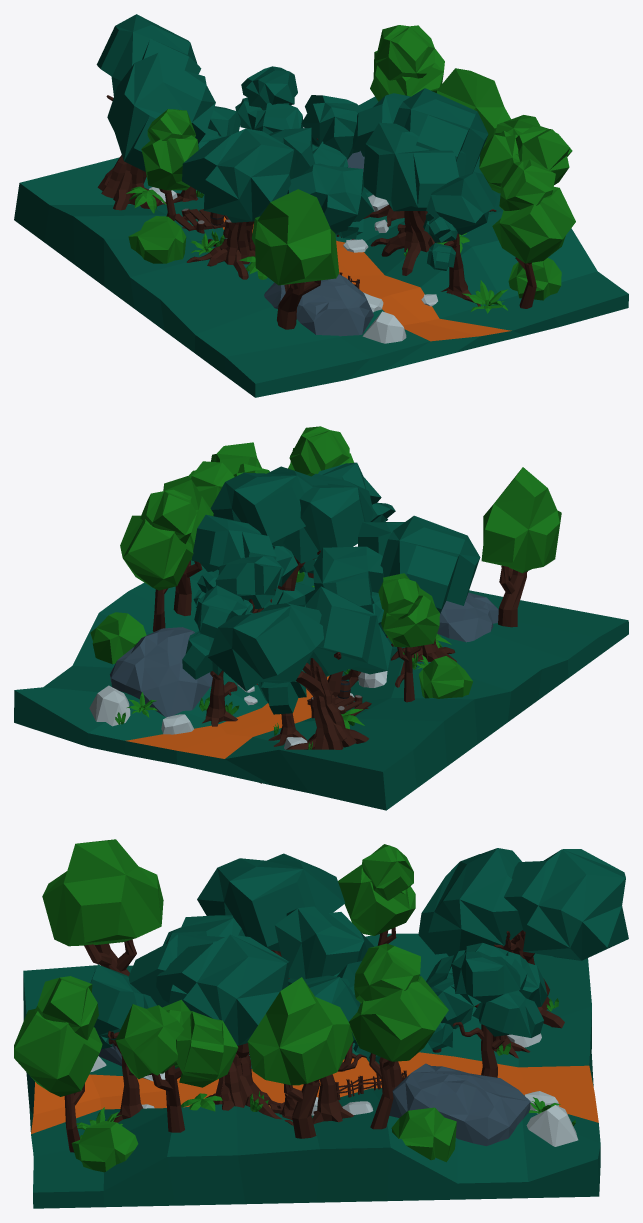
Rendered from Props_Small Scene.fbx.
3 views of the same model, one above another, from view 1: azimuth 30°, elevation 25°; view 2: azimuth 150°, elevation 25°; view 3: azimuth 270°, elevation 25° (orthographic). The views are drawn at different scales.
Visible parts, largest first — view 1: group2009401224, group937971834, group597624186, group1715968370, group403363102, group313951583, group133283747, group561706230, group2035836735, group1573540807, group116158582, group506122935 (+10 smaller); view 2: group2009401224, group597624186, group937971834, group1922369548, group403363102, group1715968370, group2035836735, group506122935, group1101735918, group1084787493, group1033721589, group2127422963 (+11 smaller); view 3: group2009401224, group597624186, group937971834, group403363102, group2035836735, group1045676722, group1922369548, group1573540807, group313951583, group1715968370, group1033721589, group506122935 (+10 smaller).
Boxes of the visible parts, box(x1,y1,x2,y2) form: group2009401224: box(14, 96, 628, 397); group937971834: box(363, 88, 488, 275); group597624186: box(96, 14, 215, 210); group1715968370: box(182, 128, 296, 279); group403363102: box(251, 189, 339, 329); group313951583: box(492, 159, 575, 308); group133283747: box(423, 172, 497, 306); group561706230: box(264, 274, 406, 343); group2035836735: box(370, 25, 444, 101); group1573540807: box(479, 115, 572, 193); group116158582: box(287, 163, 373, 239); group506122935: box(141, 109, 198, 220); group2009401224: box(14, 560, 628, 810); group597624186: box(208, 586, 392, 783); group937971834: box(210, 466, 373, 610); group1922369548: box(89, 627, 212, 734); group403363102: box(481, 467, 561, 627); group1715968370: box(380, 515, 480, 687); group2035836735: box(120, 489, 196, 631); group506122935: box(378, 573, 439, 702); group1101735918: box(191, 514, 297, 607); group1084787493: box(313, 546, 386, 687); group1033721589: box(182, 585, 253, 726); group2127422963: box(215, 556, 302, 684); group2009401224: box(23, 933, 600, 1208); group597624186: box(418, 848, 628, 1028); group937971834: box(128, 934, 293, 1125); group403363102: box(42, 839, 163, 976); group2035836735: box(349, 943, 448, 1129); group1045676722: box(247, 977, 353, 1138); group1922369548: box(389, 1063, 578, 1146); group1573540807: box(115, 999, 238, 1132); group313951583: box(14, 976, 102, 1152); group1715968370: box(197, 853, 345, 978); group1033721589: box(430, 951, 543, 1077); group506122935: box(338, 844, 415, 945).
Bounding box in the file's own units: 134 × 65.75 × 160.
